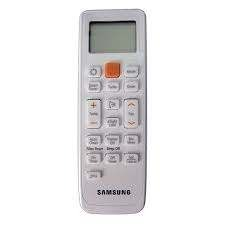remote control: (77, 12, 153, 216)
